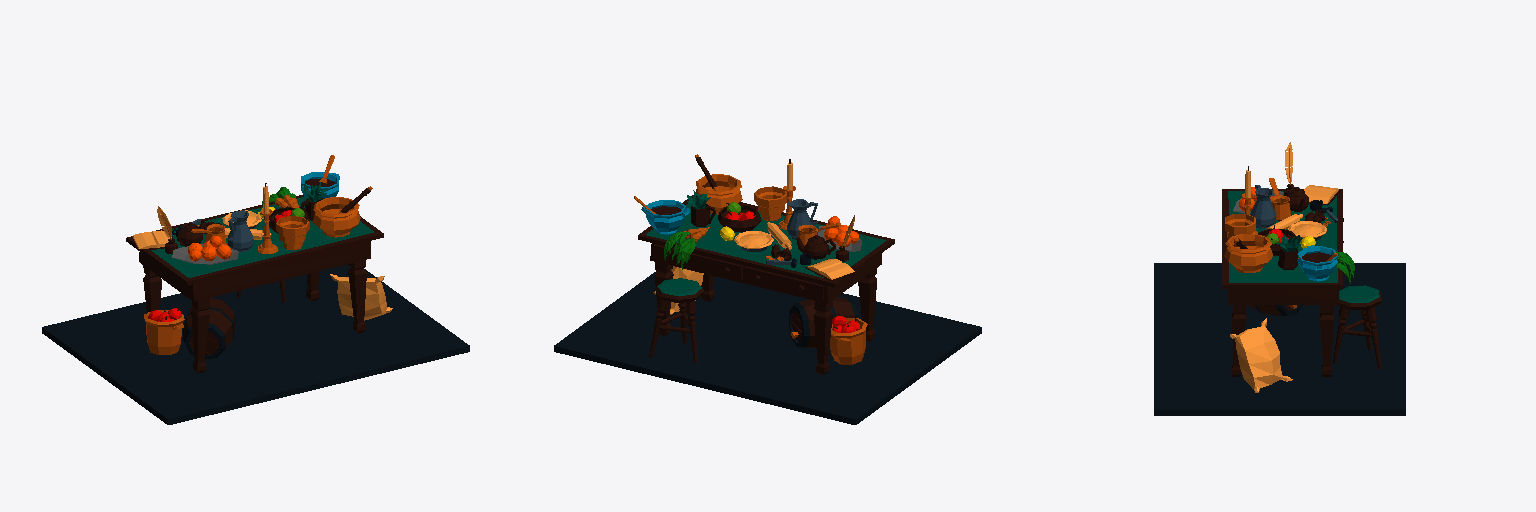
3 renders of one model, left to right at view 1: azimuth 30°, elevation 25°; view 2: azimuth 150°, elevation 25°; view 3: azimuth 270°, elevation 25°, orthographic.
Visible parts, largest first — view 1: group[number redacted], group[number redacted], group[number redacted], group[number redacted], group[number redacted], group[number redacted], group[number redacted], group[number redacted], group[number redacted], group[number redacted], group[number redacted], group[number redacted] (+3 smaller); view 2: group[number redacted], group[number redacted], group[number redacted], group[number redacted], group[number redacted], group[number redacted], group[number redacted], group[number redacted], group[number redacted], group[number redacted], group[number redacted], group[number redacted] (+5 smaller); view 3: group[number redacted], group[number redacted], group[number redacted], group[number redacted], group[number redacted], group[number redacted], group[number redacted], group[number redacted], group[number redacted], group[number redacted], group[number redacted].
Part boxes in pixels (bbox=[...]): group[number redacted]: bbox=[42, 264, 469, 424]; group[number redacted]: bbox=[126, 195, 383, 301]; group[number redacted]: bbox=[182, 298, 234, 359]; group[number redacted]: bbox=[144, 307, 184, 354]; group[number redacted]: bbox=[312, 197, 360, 237]; group[number redacted]: bbox=[330, 274, 392, 320]; group[number redacted]: bbox=[172, 236, 238, 264]; group[number redacted]: bbox=[191, 285, 209, 372]; group[number redacted]: bbox=[348, 260, 366, 333]; group[number redacted]: bbox=[276, 216, 309, 250]; group[number redacted]: bbox=[228, 210, 252, 251]; group[number redacted]: bbox=[301, 155, 339, 198]; group[number redacted]: bbox=[554, 271, 981, 424]; group[number redacted]: bbox=[638, 195, 894, 303]; group[number redacted]: bbox=[649, 278, 703, 362]; group[number redacted]: bbox=[789, 297, 858, 347]; group[number redacted]: bbox=[830, 313, 867, 364]; group[number redacted]: bbox=[634, 196, 689, 234]; group[number redacted]: bbox=[696, 174, 742, 214]; group[number redacted]: bbox=[814, 300, 832, 374]; group[number redacted]: bbox=[718, 202, 761, 232]; group[number redacted]: bbox=[858, 268, 876, 340]; group[number redacted]: bbox=[754, 186, 787, 220]; group[number redacted]: bbox=[818, 216, 861, 251]; group[number redacted]: bbox=[1154, 263, 1405, 415]; group[number redacted]: bbox=[1222, 189, 1342, 304]; group[number redacted]: bbox=[1230, 318, 1292, 392]; group[number redacted]: bbox=[1333, 285, 1381, 369]; group[number redacted]: bbox=[1224, 234, 1272, 272]; group[number redacted]: bbox=[1297, 245, 1337, 281]; group[number redacted]: bbox=[1320, 305, 1333, 376]; group[number redacted]: bbox=[1250, 185, 1275, 228]; group[number redacted]: bbox=[1275, 235, 1300, 269]; group[number redacted]: bbox=[1225, 214, 1255, 238]; group[number redacted]: bbox=[1231, 305, 1245, 376].
Bounding box in the file's own units: 3.2 × 1.75 × 2.32.